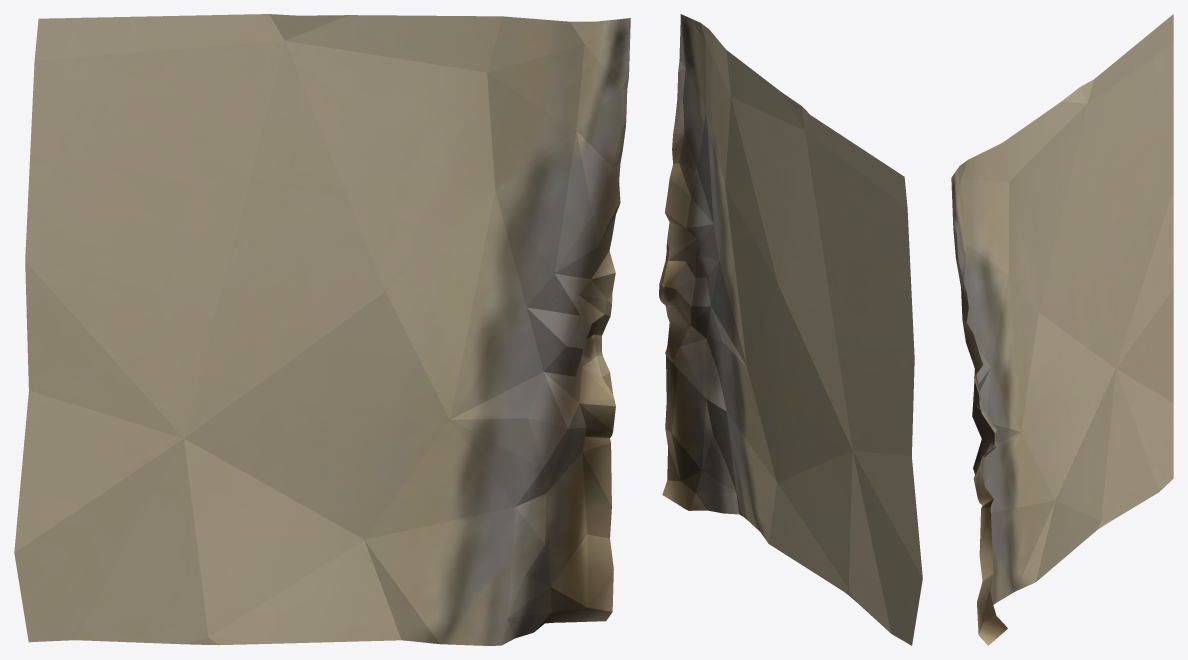
The picture shows the model from 3 angles, left to right: view 1: azimuth 30°, elevation 25°; view 2: azimuth 150°, elevation 25°; view 3: azimuth 270°, elevation 25°; orthographic projection. The views are drawn at different scales.
Size of the model in its own units: 0.6618 by 0.8374 by 0.3599.
Materials: 2 (2 with a texture image).
